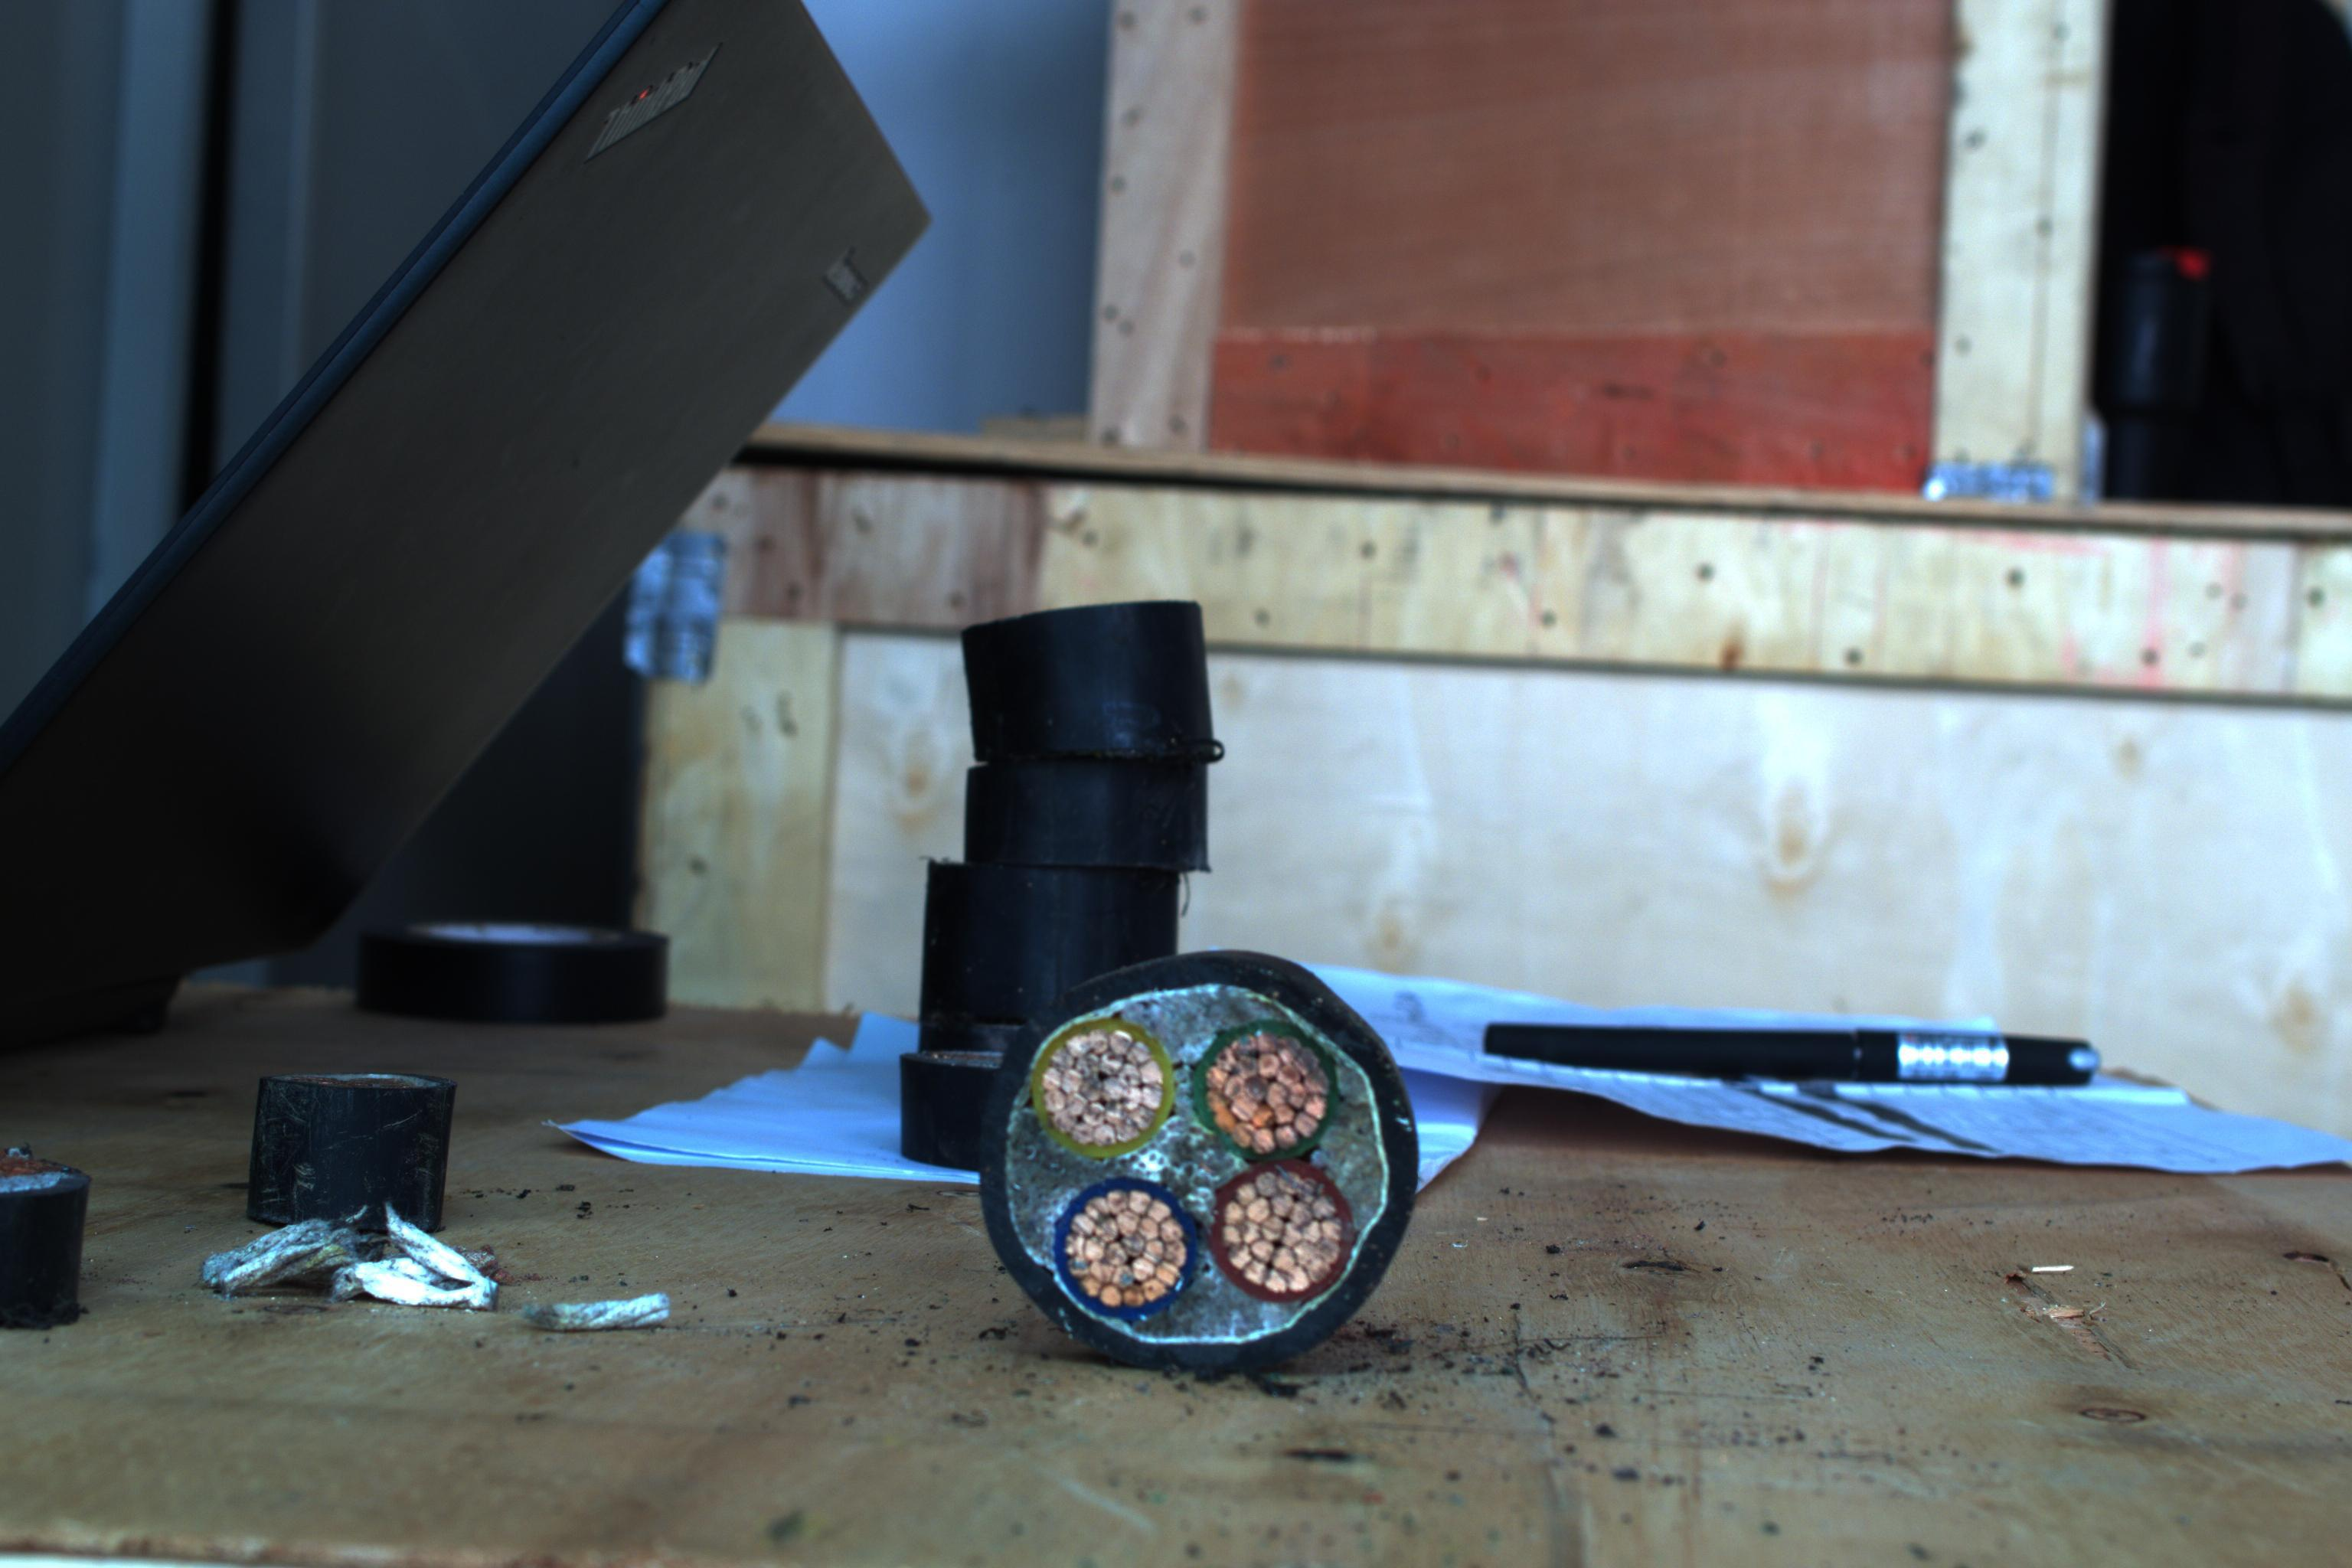YJV_0.6_1kV_4x120: (990, 950, 1421, 1370)
